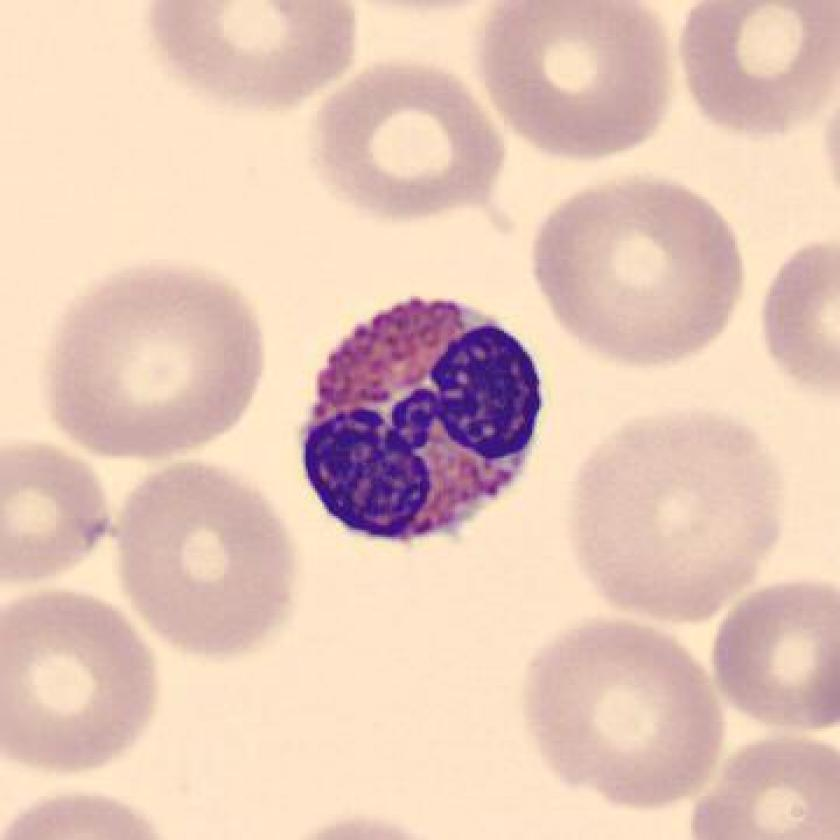eosinophil: (290, 290, 559, 561)
